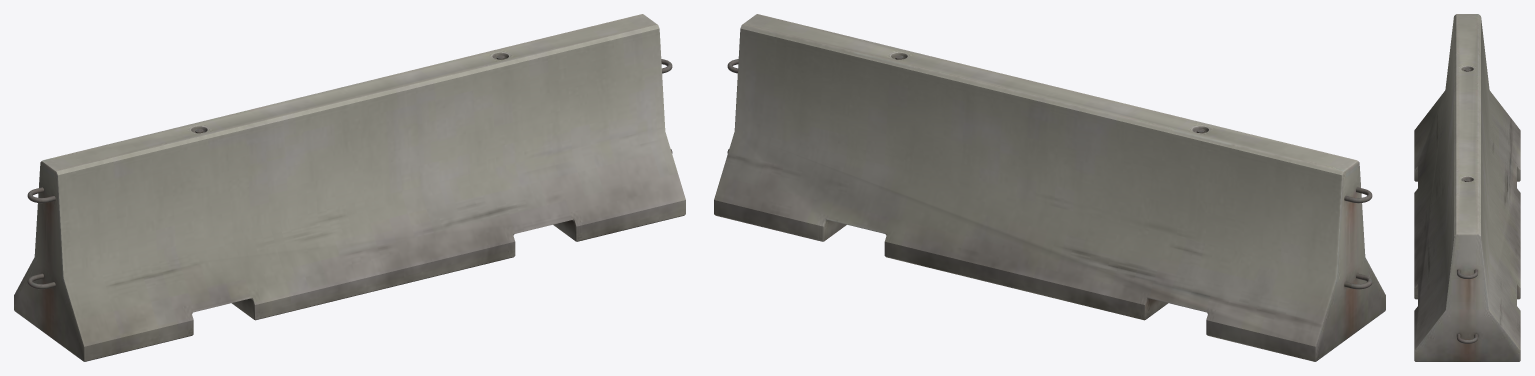
File: jersey-barrier.glb
The picture shows the model from 3 angles, left to right: view 1: azimuth 30°, elevation 25°; view 2: azimuth 150°, elevation 25°; view 3: azimuth 270°, elevation 25°; orthographic projection. The views are drawn at different scales.
Parts seen in each view (by area): view 1: jersey-barrier_body; view 2: jersey-barrier_body; view 3: jersey-barrier_body.
Part boxes in pixels (x1,y1,x2,y2): jersey-barrier_body: (14, 14, 685, 361); jersey-barrier_body: (714, 14, 1385, 361); jersey-barrier_body: (1414, 14, 1520, 361).
Size of the model in its own units: 3.19 by 0.8129 by 0.6094.
1 material, 1 textured.
